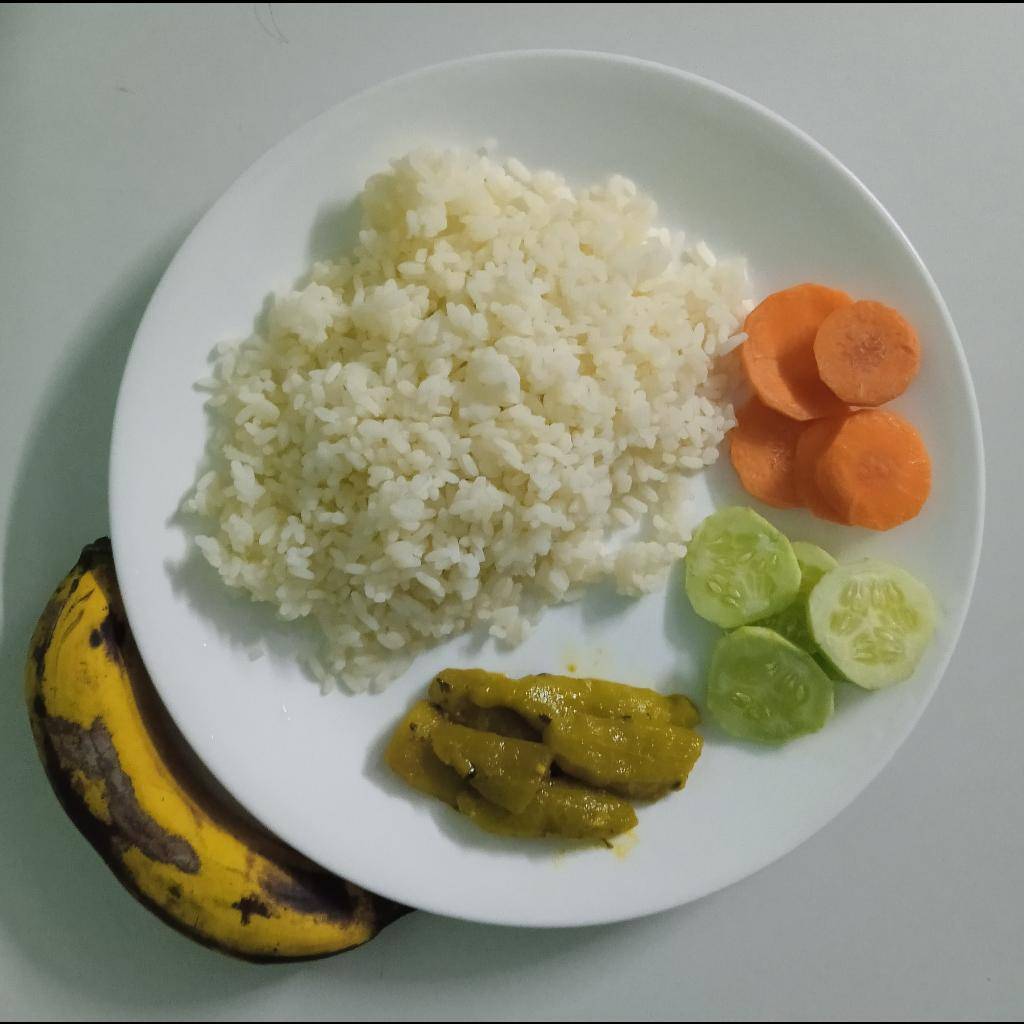banana: (23, 539, 419, 966)
carrot: (729, 280, 932, 531)
cucumber: (686, 503, 935, 744)
dundol: (384, 666, 706, 841)
rice: (181, 143, 750, 698)
